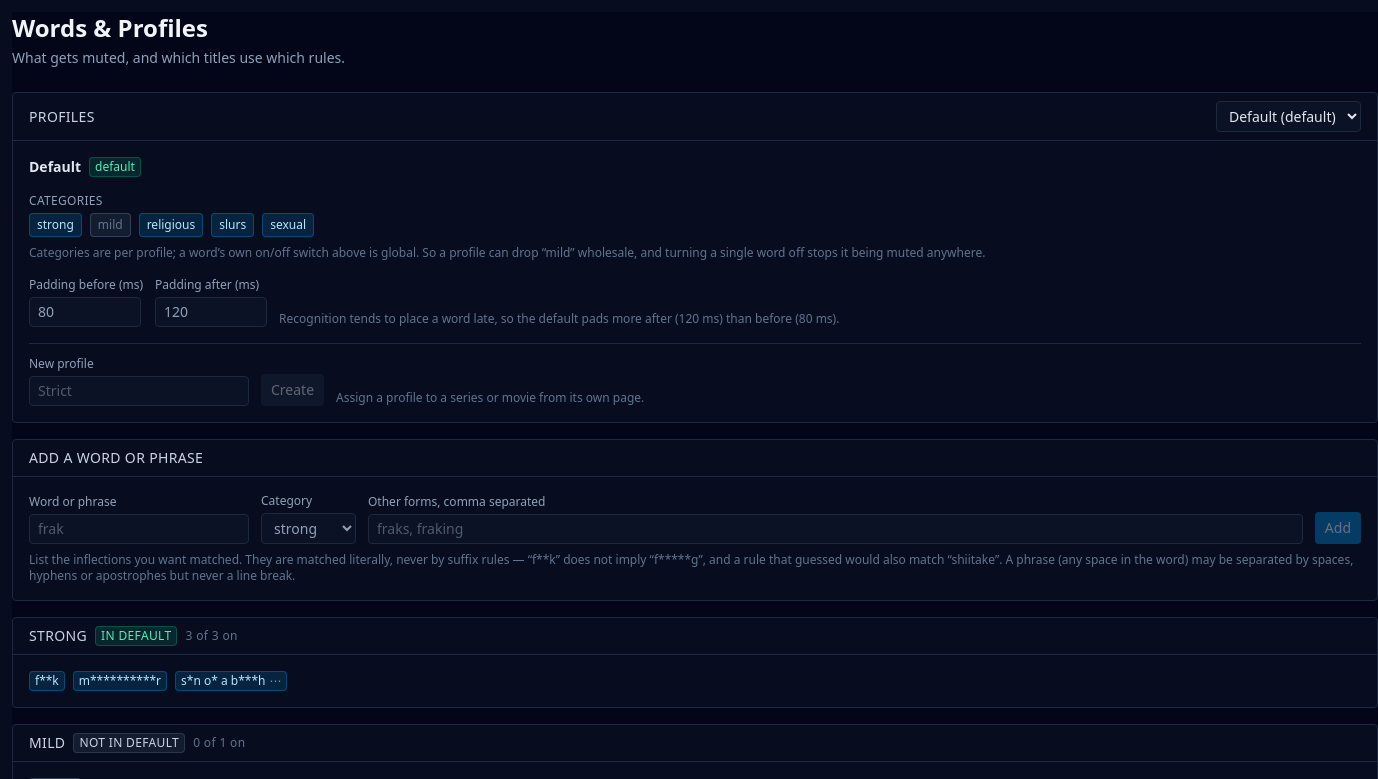
Test case: the profile editor › warns how many titles a profile is attached to
Select "Strict" in the dropdown named "Profile": (1288,116) [1216,101,1361,132]
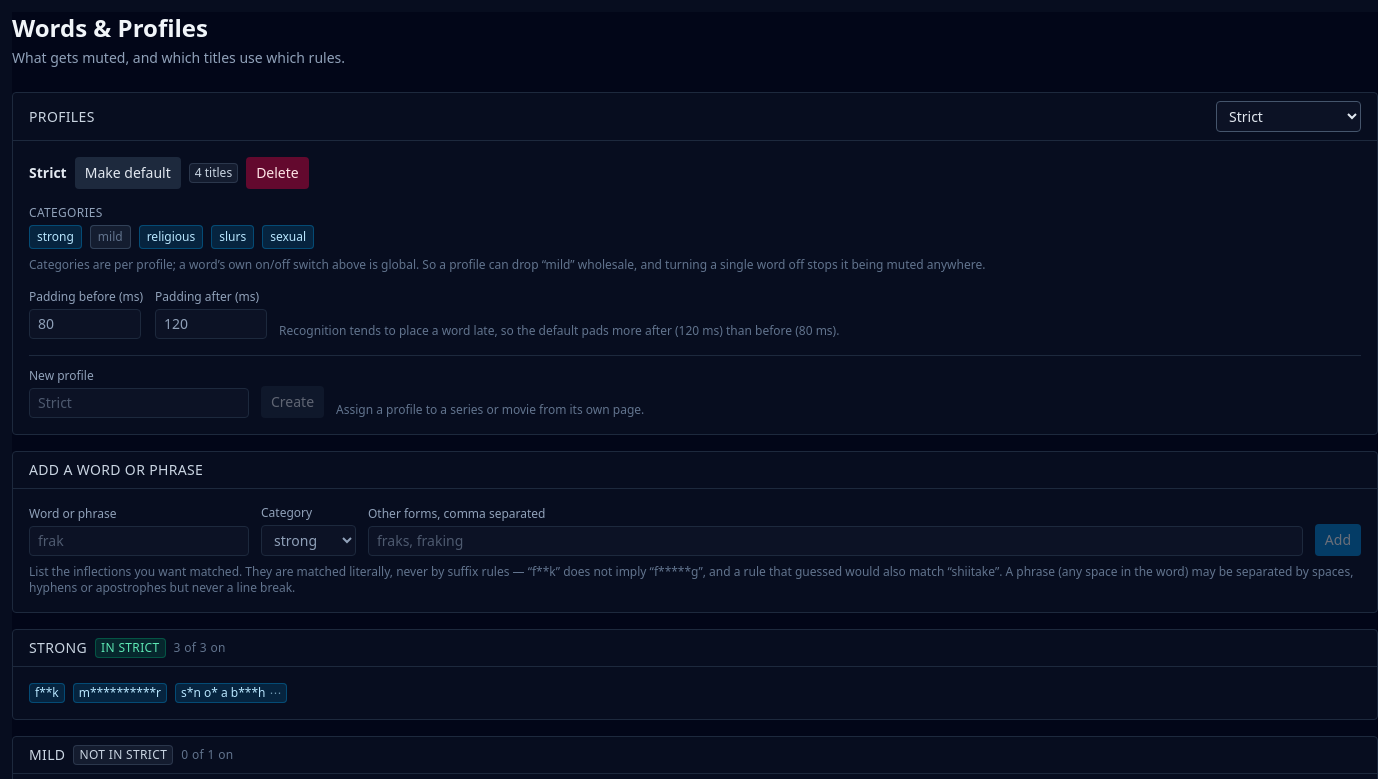
Check: the text "4 titles" is shown, box [189,163,238,183]
